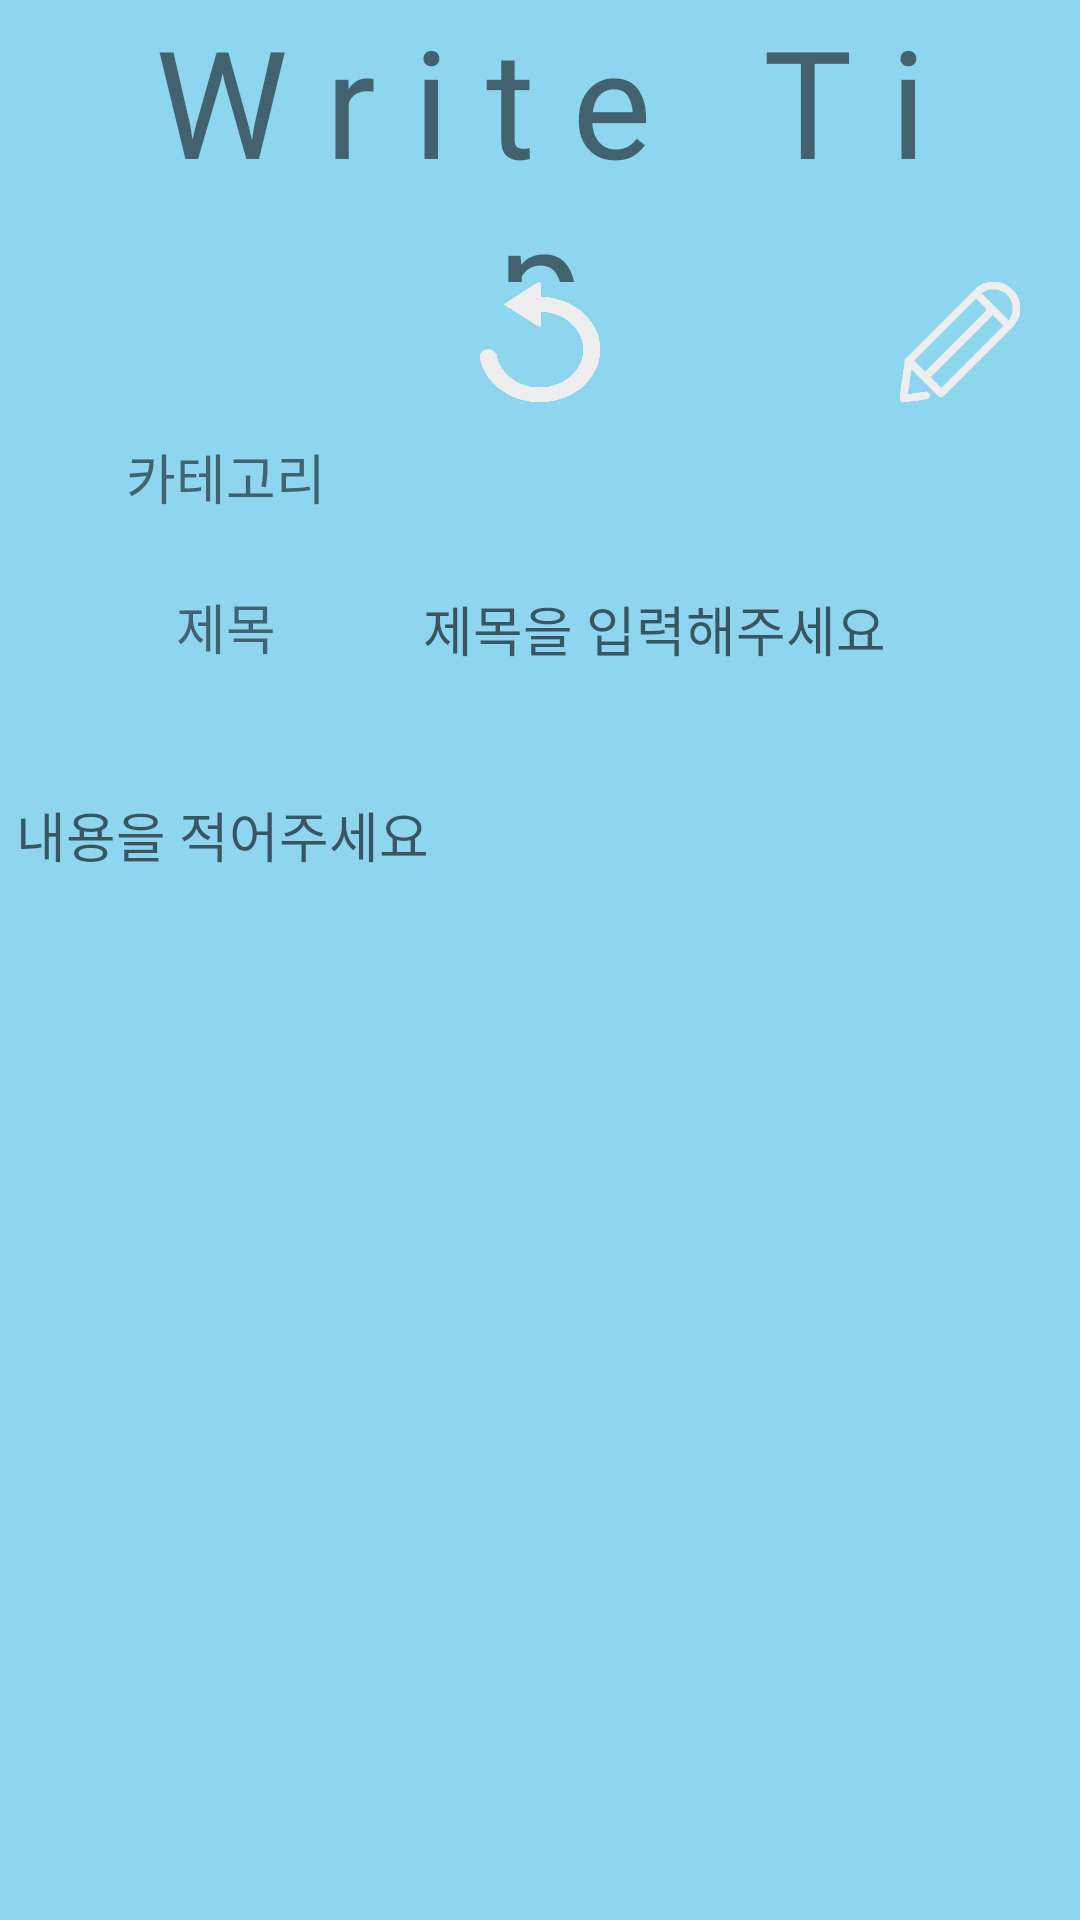

Icon click points for this 1080px x 1920px phone screenshot, format point (x, y):
pencilwhite: point (960, 342)
refreshwhite: point (540, 342)
